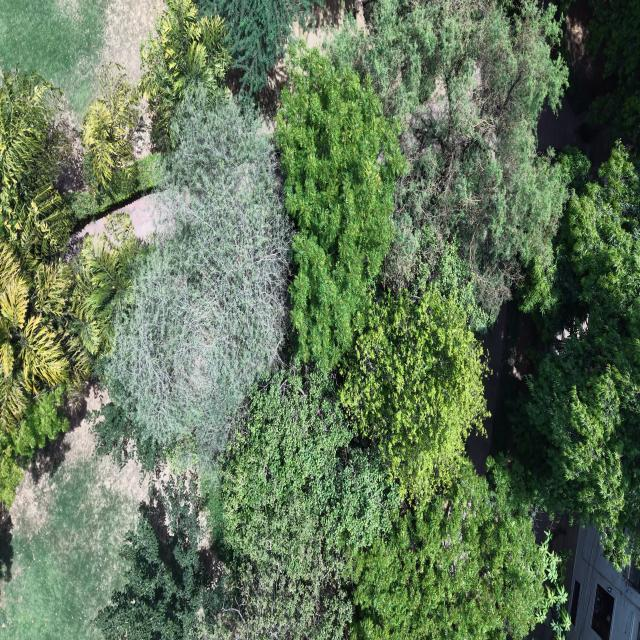DRY_AREA: (0, 419, 147, 639), (0, 421, 147, 639), (0, 0, 165, 126), (101, 0, 165, 82), (119, 193, 161, 239)
VEGETATION_TREE: (0, 0, 639, 639), (95, 46, 563, 637), (95, 48, 549, 638), (99, 372, 557, 638), (329, 0, 567, 328), (103, 90, 292, 467), (0, 70, 141, 505), (0, 71, 123, 508), (0, 71, 121, 505), (521, 144, 639, 567), (0, 70, 113, 508), (220, 373, 398, 639), (276, 45, 404, 368), (0, 225, 141, 505), (0, 70, 86, 506), (354, 459, 548, 639), (0, 424, 146, 639), (341, 289, 486, 502), (328, 0, 567, 129), (0, 71, 70, 429), (96, 474, 224, 639), (64, 63, 161, 221), (327, 0, 441, 123), (0, 70, 69, 270), (140, 0, 230, 149), (0, 244, 72, 429), (557, 0, 639, 162), (0, 0, 109, 119), (381, 226, 489, 338), (71, 213, 148, 356), (196, 0, 313, 93), (0, 386, 68, 508), (587, 0, 639, 149), (82, 64, 138, 194), (63, 153, 161, 223), (92, 402, 161, 471), (536, 529, 573, 639), (13, 386, 68, 459), (0, 434, 23, 507)
